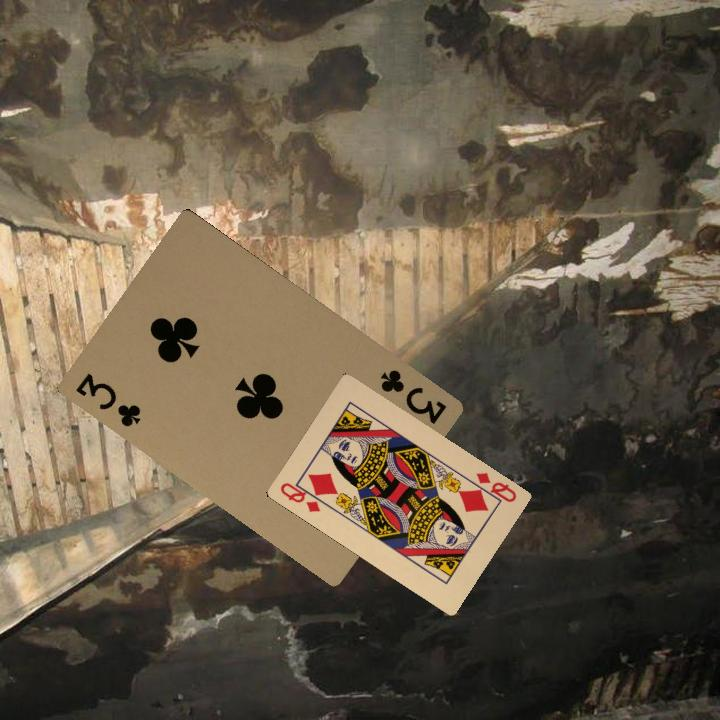3c: (376, 365, 449, 427), (71, 369, 144, 430)
Qd: (467, 468, 519, 507), (276, 478, 330, 515)
